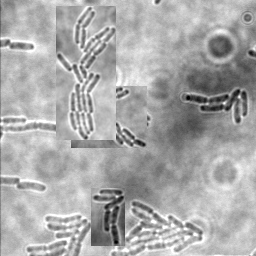Dividing: (1, 123, 70, 142), (8, 41, 35, 52)
Microcolony: (56, 6, 116, 140), (109, 200, 205, 255), (71, 86, 147, 148), (25, 212, 94, 255), (184, 89, 248, 126), (91, 188, 125, 246), (16, 182, 48, 193)
